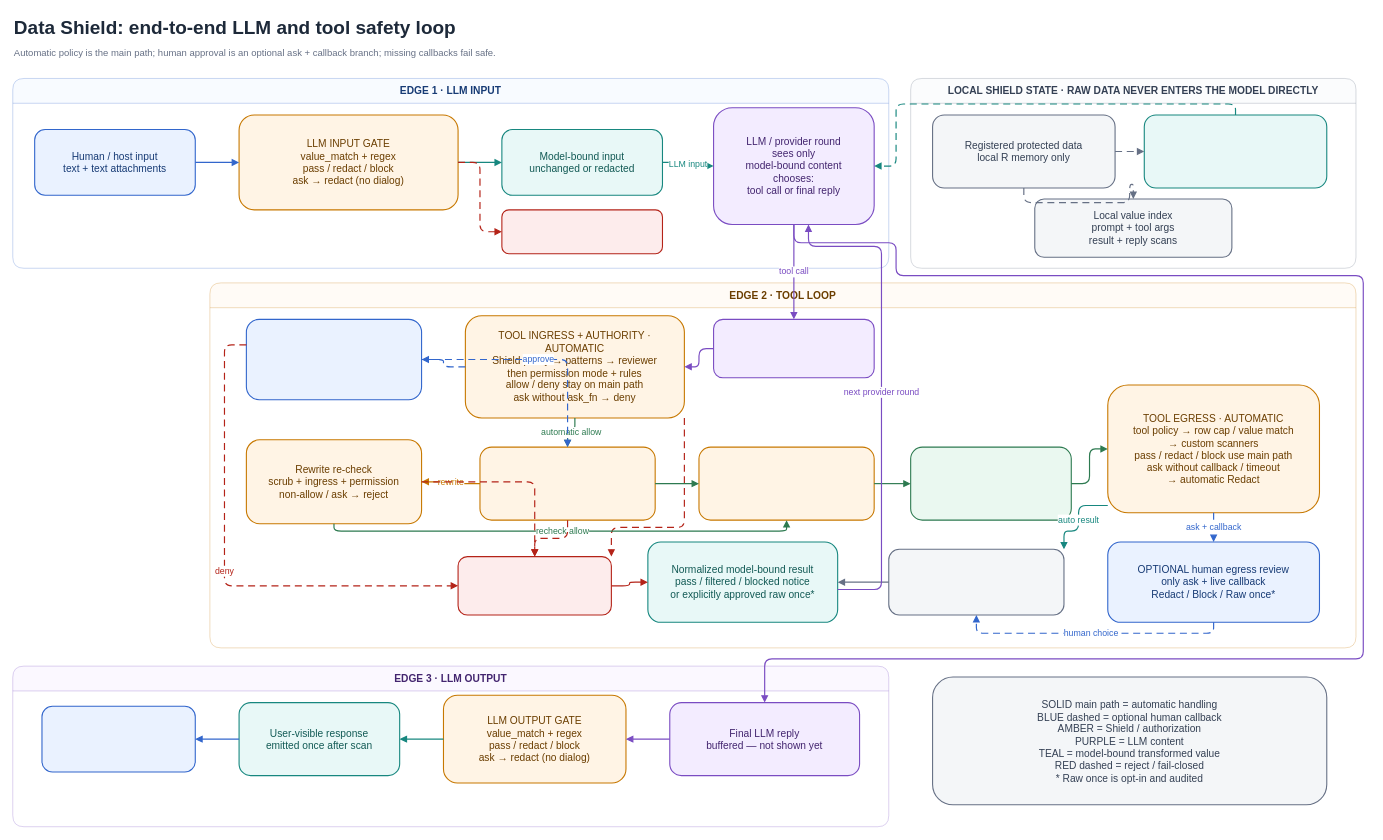
Some shapes in this 1383 by 840 pixel diagram are drawn without their labels. The centre of each missing label's shape, as x and y in pixels:
"Execute tool with final scanned args" goes at (x=990, y=483).
"Filtered schema block + DescribeData metadata" goes at (x=1235, y=151).
"Final argument scrub scan_tool_args redact or reject" goes at (x=786, y=483).
"Human / browser sees gated response" goes at (x=118, y=738).
"LLM tool request name + arguments" goes at (x=793, y=348).
"OPTIONAL human permission only ask + ask_fn Approve / Deny" goes at (x=333, y=359).
"PostToolUse observes gated result" goes at (x=976, y=581).
"PreToolUse allow / deny / rewrite" goes at (x=567, y=483).
"Rejected call fixed safe tool result" goes at (x=534, y=585).
"Turn stops safe blocked notice" goes at (x=582, y=231).
